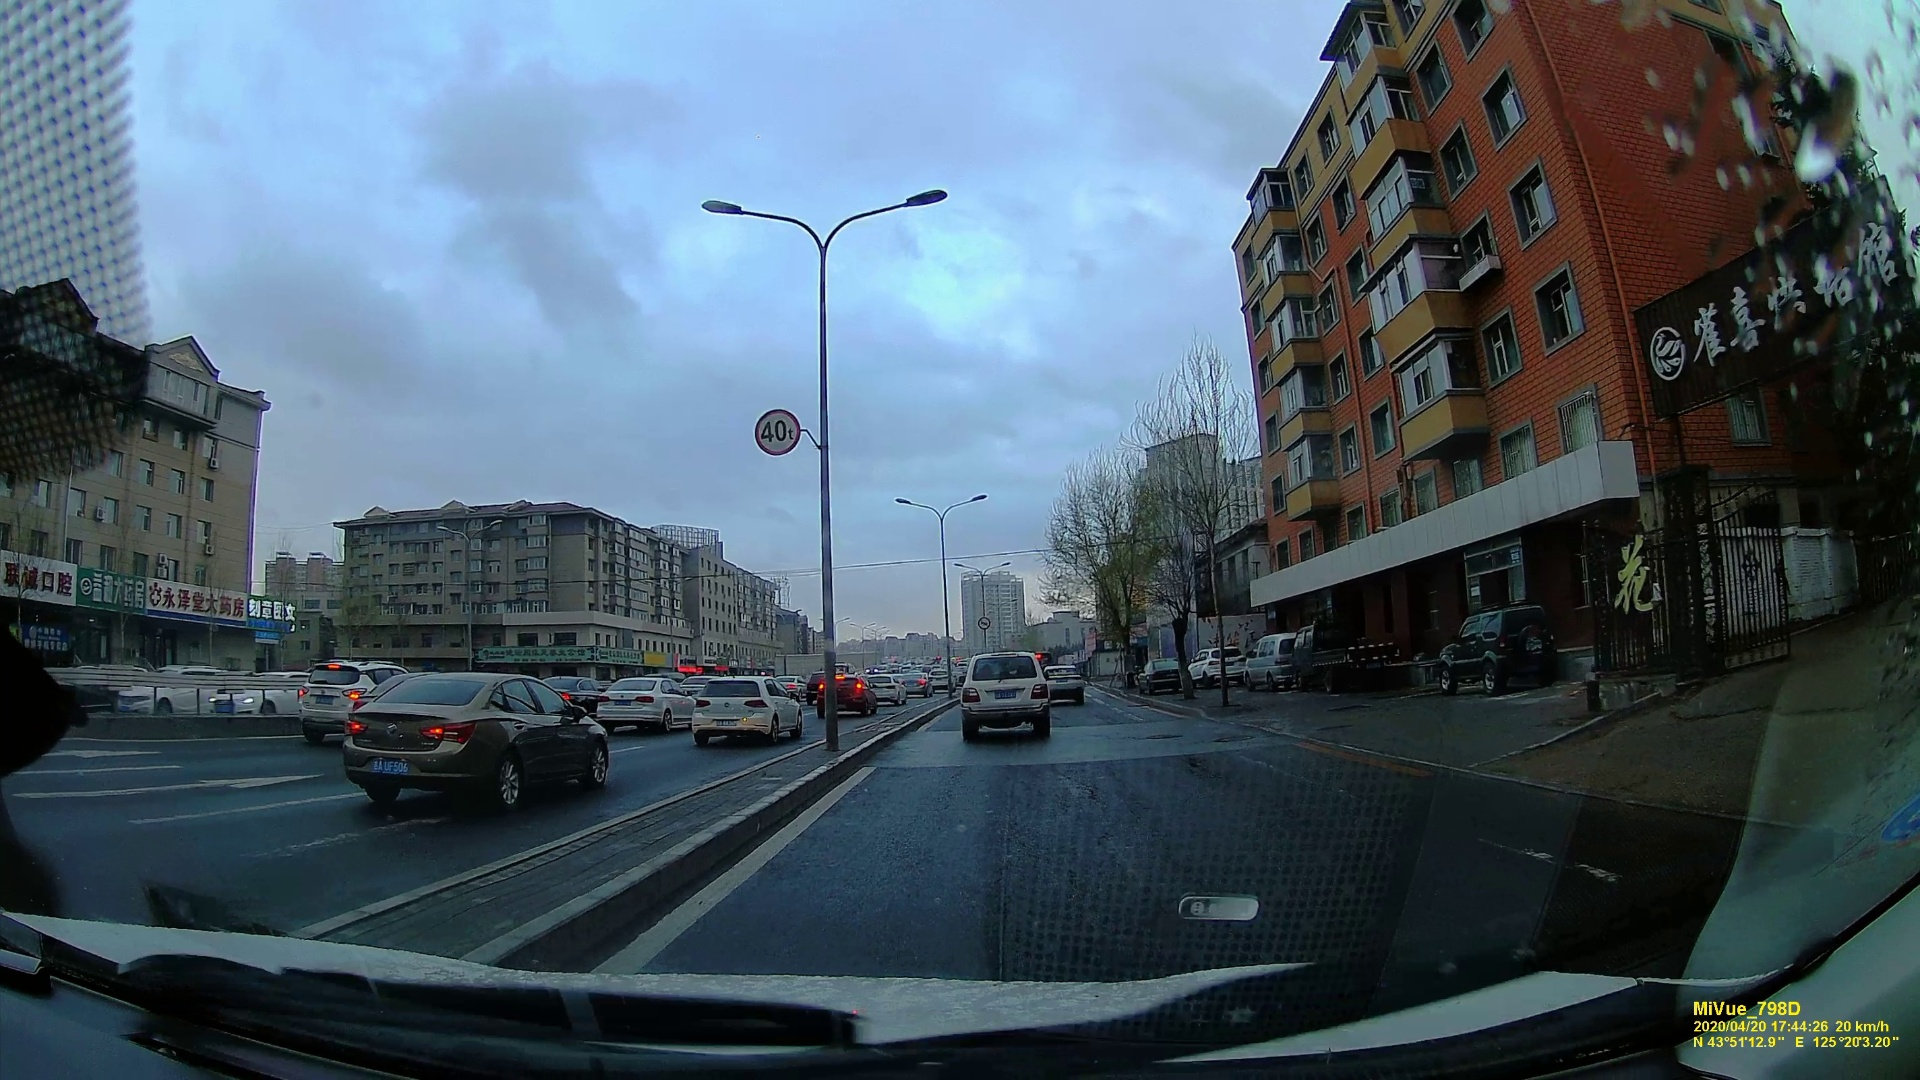traffic_sign: (756, 407, 796, 456), (977, 615, 986, 630)
vehicle: (338, 669, 607, 812), (1437, 607, 1563, 695), (291, 654, 405, 744), (955, 649, 1047, 736), (692, 673, 802, 745), (597, 671, 698, 729), (811, 675, 876, 716), (1188, 644, 1241, 688), (1044, 663, 1087, 709)
